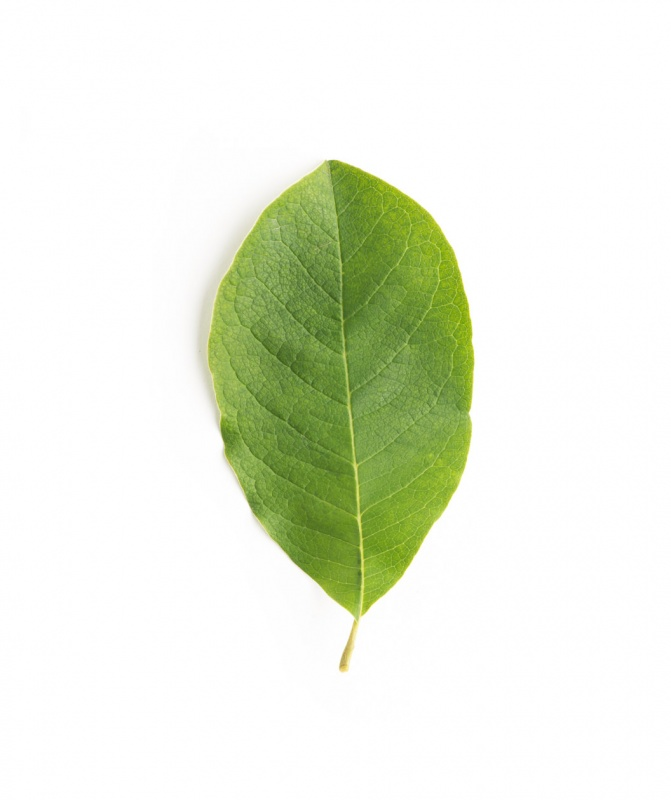healthy: (203, 165, 495, 648)
